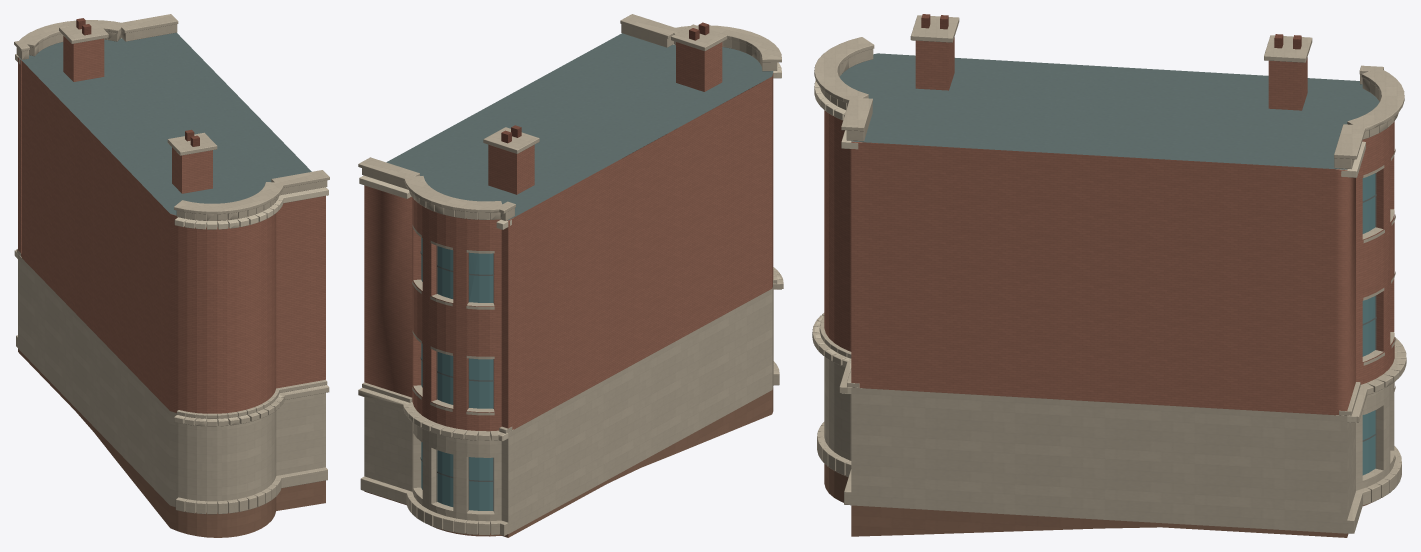
Rendered from bay-state-192.glb.
3 renders of one model, left to right at view 1: azimuth 30°, elevation 25°; view 2: azimuth 150°, elevation 25°; view 3: azimuth 270°, elevation 25°, orthographic. The views are drawn at different scales.
Parts seen in each view (by area): view 1: BU district -4:3:architecture:brick, BU district -4:3:architecture:stone, BU district -4:3:architecture:roof, BU district -4:3:architecture:brownstone, BU district -4:3:architecture:trim, BU district -4:3:architecture:brickDark; view 2: BU district -4:3:architecture:brick, BU district -4:3:architecture:stone, BU district -4:3:architecture:roof, BU district -4:3:architecture:glass, BU district -4:3:architecture:brownstone, BU district -4:3:architecture:trim, BU district -4:3:architecture:frame; view 3: BU district -4:3:architecture:brick, BU district -4:3:architecture:stone, BU district -4:3:architecture:roof, BU district -4:3:architecture:brownstone, BU district -4:3:architecture:glass, BU district -4:3:architecture:trim.
Part boxes in pixels (x1,y1,x2,y2): BU district -4:3:architecture:brick: (18, 36, 325, 413); BU district -4:3:architecture:stone: (14, 14, 329, 514); BU district -4:3:architecture:roof: (18, 32, 311, 215); BU district -4:3:architecture:brownstone: (18, 349, 325, 537); BU district -4:3:architecture:trim: (15, 38, 328, 425); BU district -4:3:architecture:brickDark: (76, 18, 199, 146); BU district -4:3:architecture:brick: (364, 42, 773, 431); BU district -4:3:architecture:stone: (358, 14, 783, 535); BU district -4:3:architecture:roof: (386, 33, 773, 220); BU district -4:3:architecture:glass: (421, 238, 492, 510); BU district -4:3:architecture:brownstone: (364, 387, 773, 537); BU district -4:3:architecture:trim: (359, 44, 781, 440); BU district -4:3:architecture:frame: (420, 246, 493, 511); BU district -4:3:architecture:brick: (824, 37, 1394, 415); BU district -4:3:architecture:stone: (812, 15, 1406, 533); BU district -4:3:architecture:roof: (839, 53, 1379, 169); BU district -4:3:architecture:brownstone: (824, 464, 1371, 537); BU district -4:3:architecture:glass: (1362, 173, 1375, 475); BU district -4:3:architecture:trim: (814, 80, 1365, 422).
Size of the model in its own units: 8.81 by 15.85 by 18.51.
8 materials, 7 textured.
